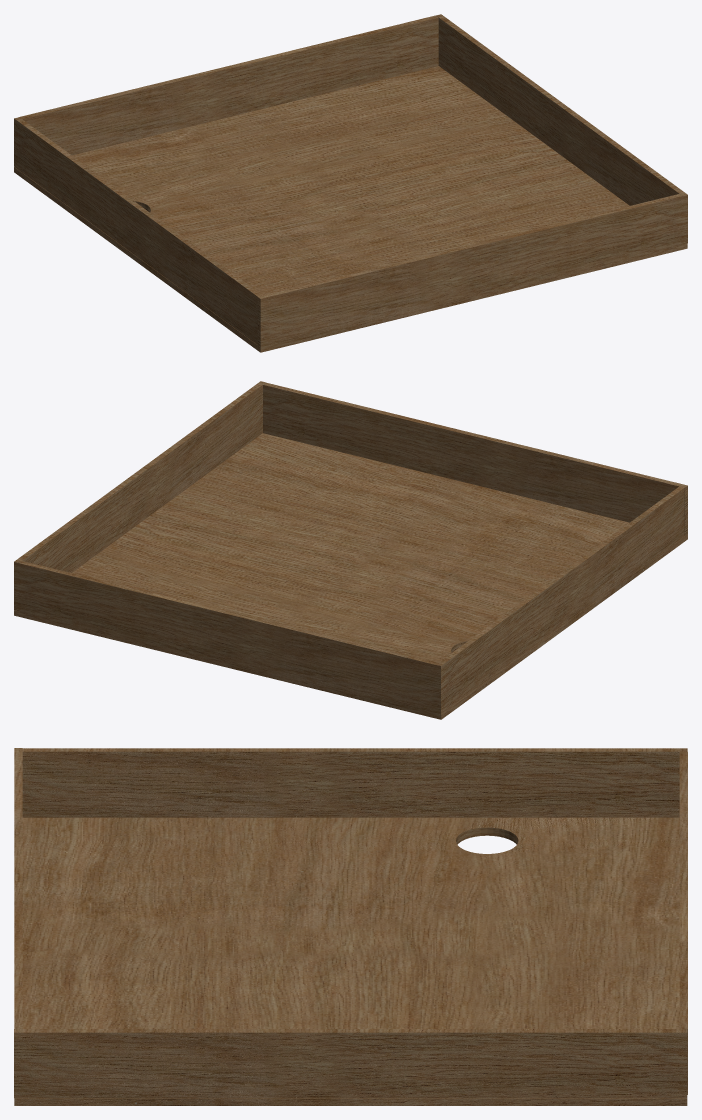
Rendered from Labyrinth_0.obj.
3 views of the same model, one above another, from view 1: azimuth 30°, elevation 25°; view 2: azimuth 150°, elevation 25°; view 3: azimuth 270°, elevation 25° (orthographic). The views are drawn at different scales.
Parts seen in each view (by area): view 1: Labyrinth_lvl0_Labyrinth_1.002; view 2: Labyrinth_lvl0_Labyrinth_1.002; view 3: Labyrinth_lvl0_Labyrinth_1.002.
Boxes of the visible parts, x1,y1,x2,y2 form: Labyrinth_lvl0_Labyrinth_1.002: (14,14,687,352); Labyrinth_lvl0_Labyrinth_1.002: (14,381,687,719); Labyrinth_lvl0_Labyrinth_1.002: (14,748,687,1105).
Bounding box in the file's own units: 24.71 × 2.99 × 24.73.
1 material, 1 textured.
